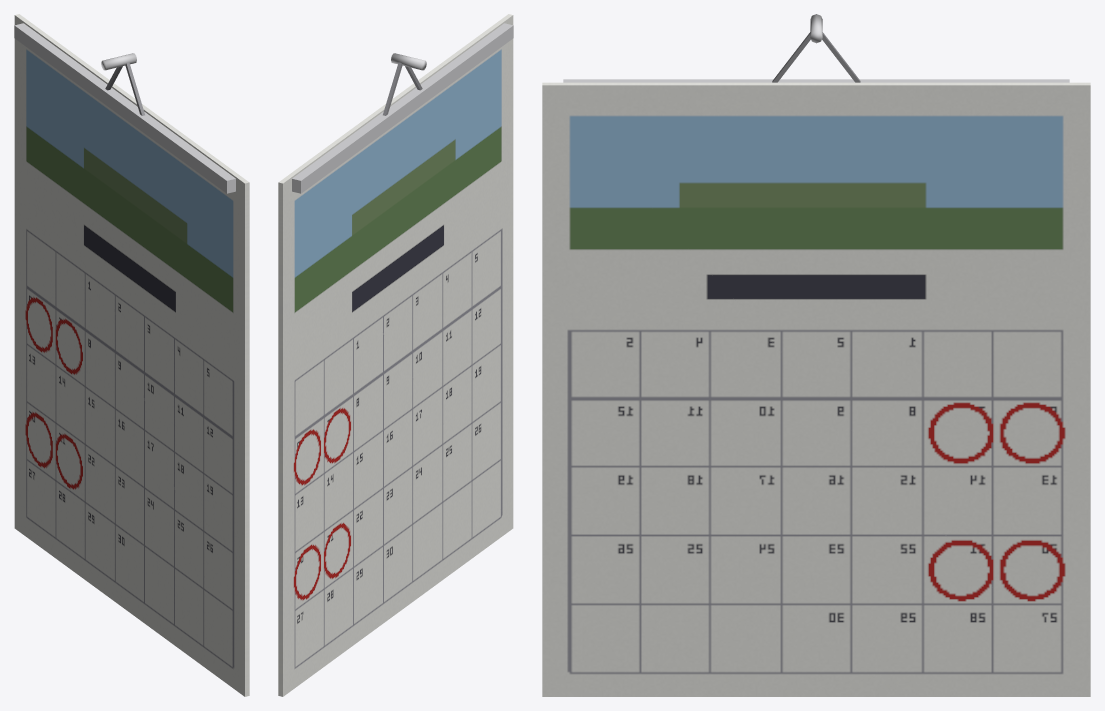
The model's file is escena.casa.calendario_visitas.fbx.
3 renders of one model, left to right at view 1: azimuth 30°, elevation 25°; view 2: azimuth 150°, elevation 25°; view 3: azimuth 270°, elevation 25°, orthographic. The views are drawn at different scales.
Parts seen in each view (by area): view 1: Calendario, Espiral, Clavo; view 2: Calendario, Espiral, Clavo; view 3: Calendario, Espiral.
Boxes of the visible parts, x1,y1,x2,y2 form: Calendario: (14, 14, 249, 696); Espiral: (14, 23, 235, 193); Clavo: (101, 53, 136, 70); Calendario: (278, 14, 513, 696); Espiral: (292, 23, 513, 193); Clavo: (391, 53, 426, 70); Calendario: (542, 82, 1090, 696); Espiral: (563, 79, 1069, 82).
Bounding box in the file's own units: 0.02 × 0.348 × 0.26.
3 materials, 1 textured.
